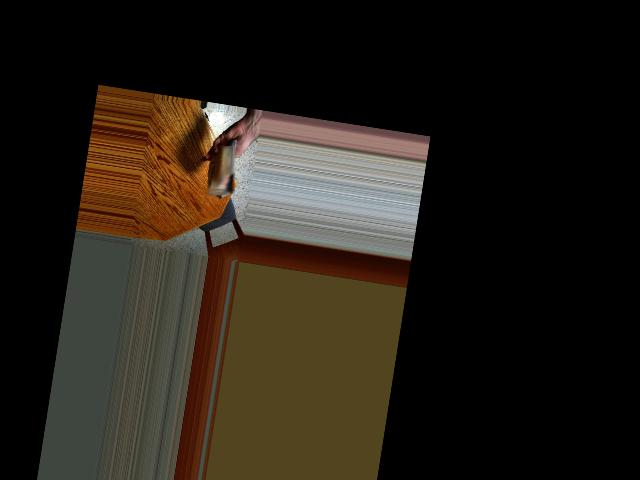cheese: (198, 140, 244, 198)
